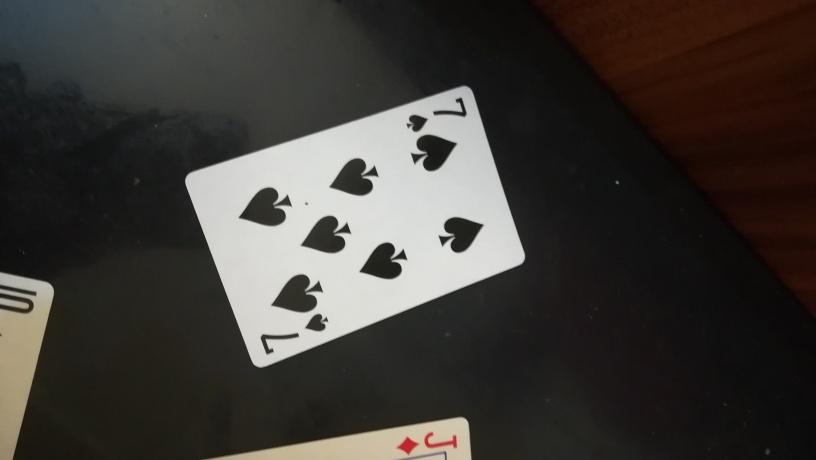ht 7: (180, 83, 532, 371)
